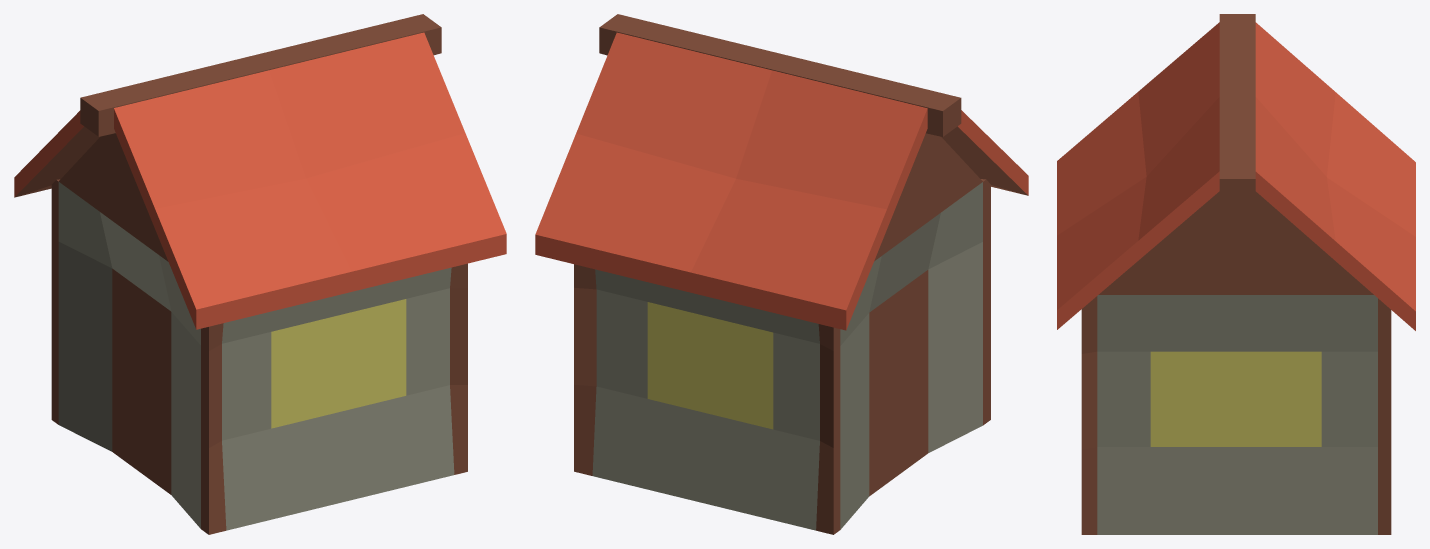
The model's file is Haus.fbx.
3 renders of one model, left to right at view 1: azimuth 30°, elevation 25°; view 2: azimuth 150°, elevation 25°; view 3: azimuth 270°, elevation 25°, orthographic.
Visible parts, largest first — view 1: Cube; view 2: Cube; view 3: Cube.
Boxes of the visible parts, x1,y1,x2,y2 form: Cube: (14,14,506,534); Cube: (535,14,1028,534); Cube: (1057,14,1415,534).
Size of the model in its own units: 1364 by 1454 by 1255.
